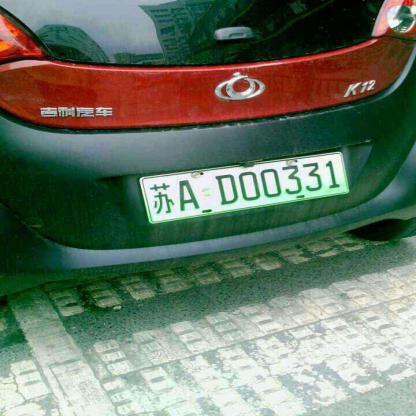lp: (142, 151, 354, 219)
